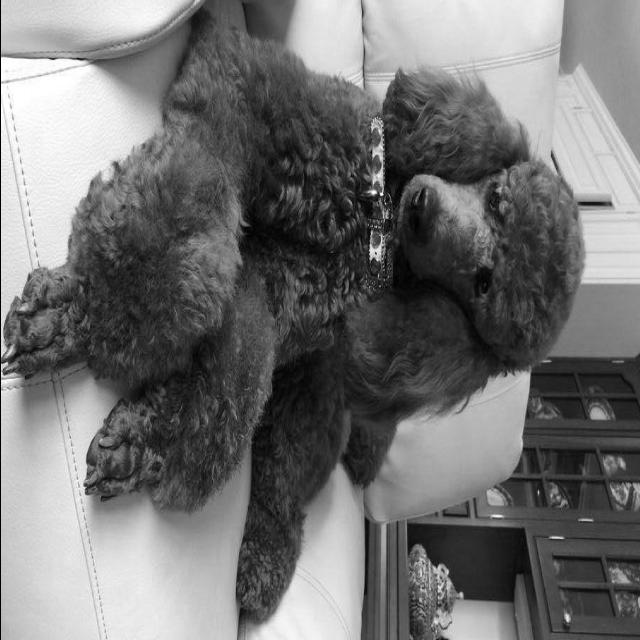Dogs: (0, 1, 586, 629)
